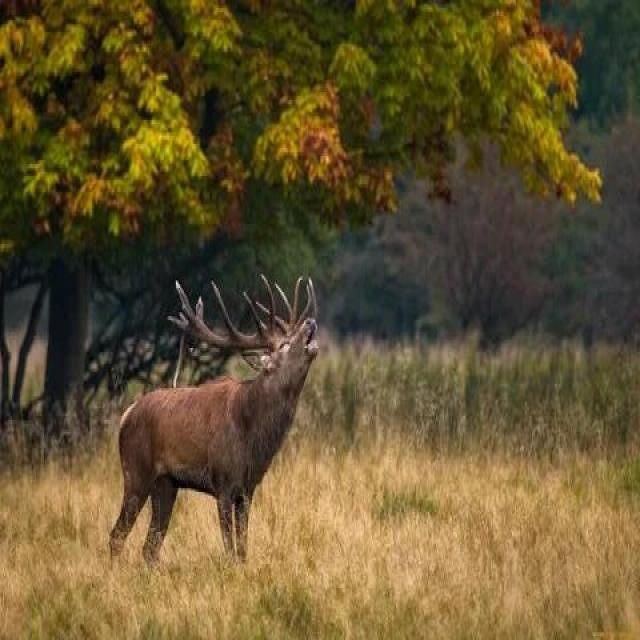deer: (73, 239, 392, 578)
